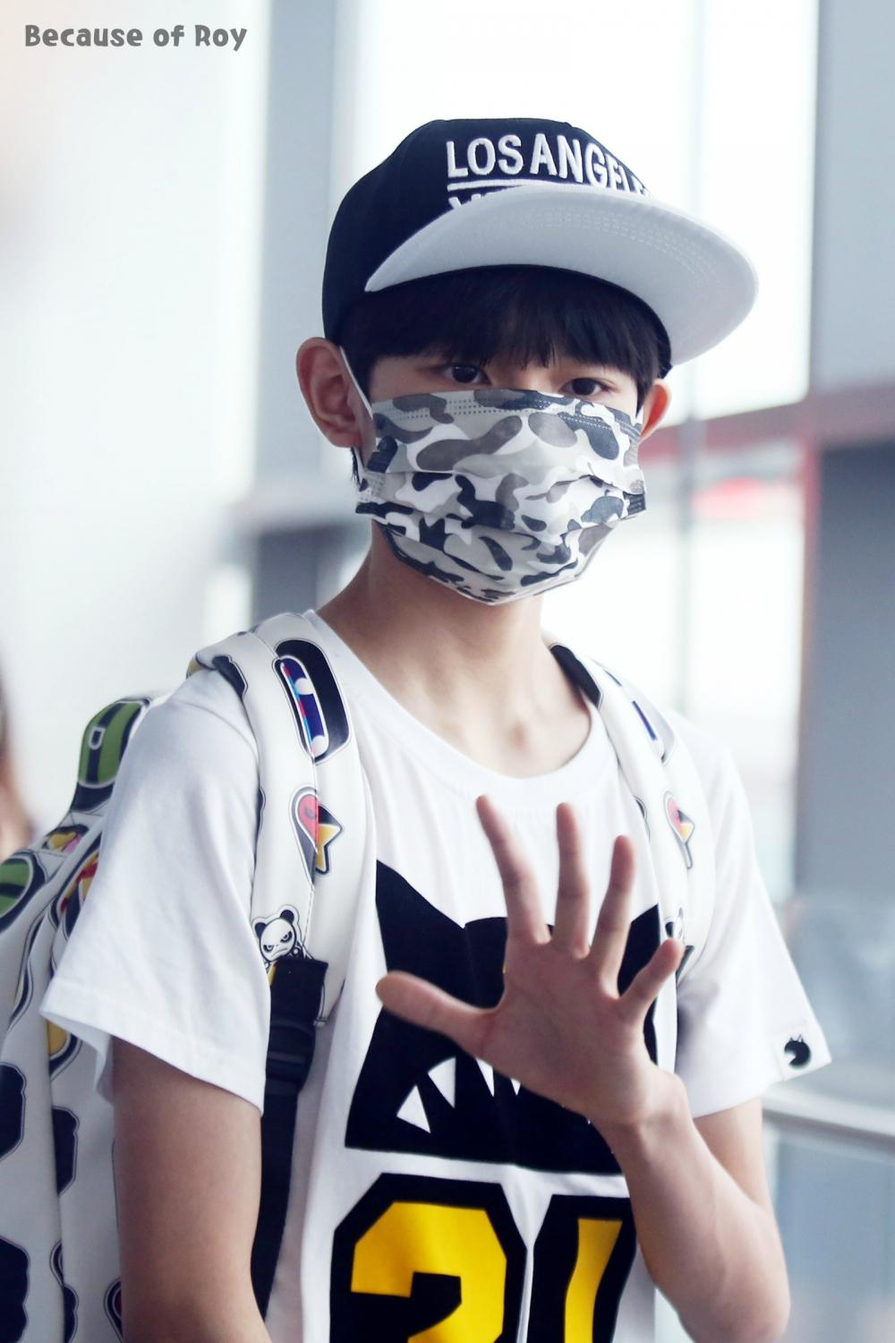OK: (371, 295, 662, 586)
